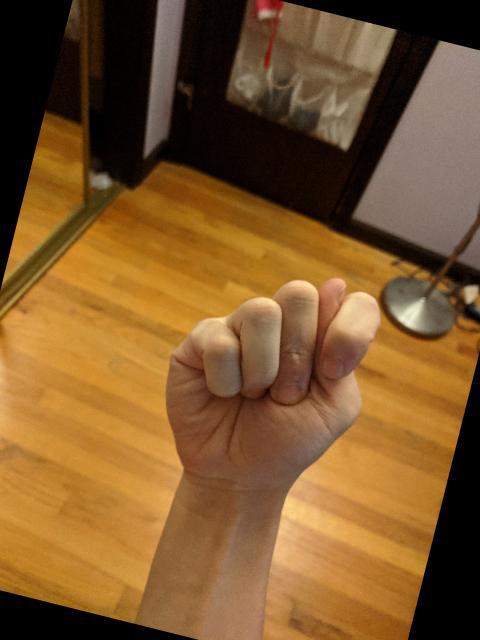T: (136, 235, 399, 520)
